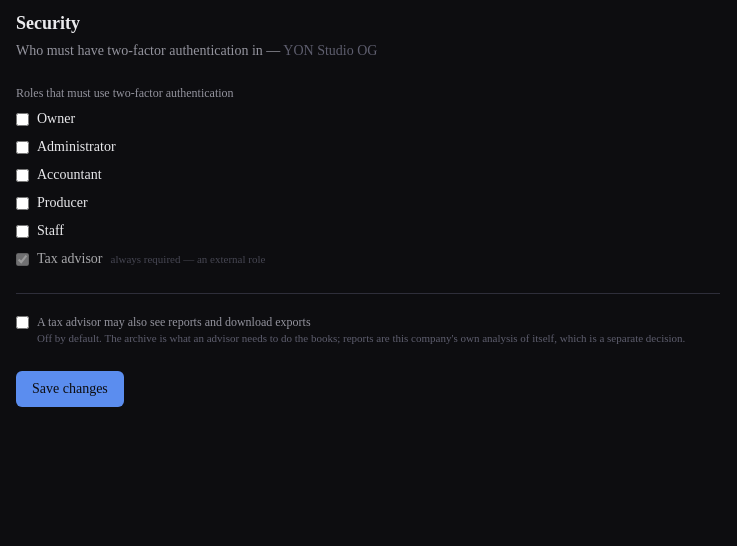
Security screen — the consequence of requiring 2FA › says plainly when nobody would be locked out
Click the checkbox labelled "Producer" at {"x": 22, "y": 203}, box [16,196,29,210]
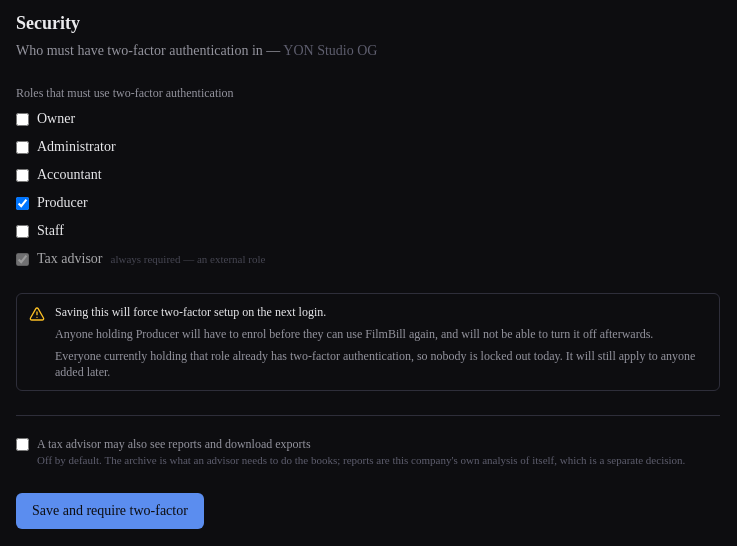
Check: the message with test id "require-2fa-consequence" does not show "will be locked out", box [16,293,720,391]
Check: the message with test id "require-2fa-consequence" shows "already has two-factor", box [55,349,695,379]
Check: the message with test id "require-2fa-consequence" shows "nobody is locked out today", box [55,349,695,379]
